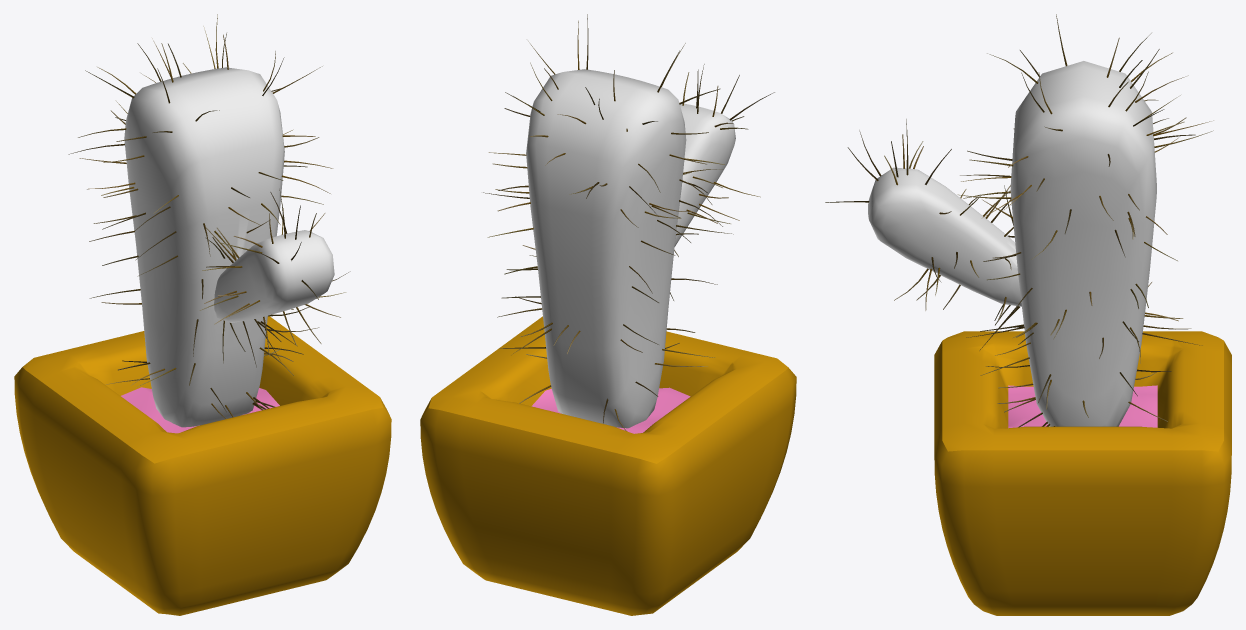
The model's file is Cactus.FBX.
3 views of the same model, side by side, from view 1: azimuth 30°, elevation 25°; view 2: azimuth 150°, elevation 25°; view 3: azimuth 270°, elevation 25° (orthographic). The views are drawn at different scales.
Visible parts, largest first — view 1: Box003, Box001, Object001; view 2: Box003, Box001, Object001; view 3: Box003, Box001, Object001.
Part boxes in pixels (<box>): Box003: <box>14,316,391,615</box>; Box001: <box>124,67,334,427</box>; Object001: <box>68,14,350,418</box>; Box003: <box>420,316,796,615</box>; Box001: <box>526,69,735,428</box>; Object001: <box>483,14,774,431</box>; Box003: <box>934,331,1231,615</box>; Box001: <box>868,61,1156,426</box>; Object001: <box>825,14,1213,427</box>.
Size of the model in its own units: 21.12 by 41.84 by 28.87.
